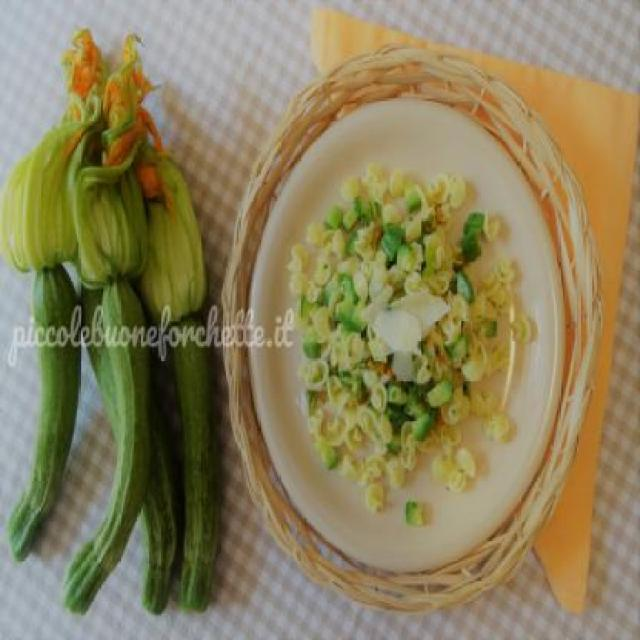Oil pasta: (218, 66, 602, 545)
